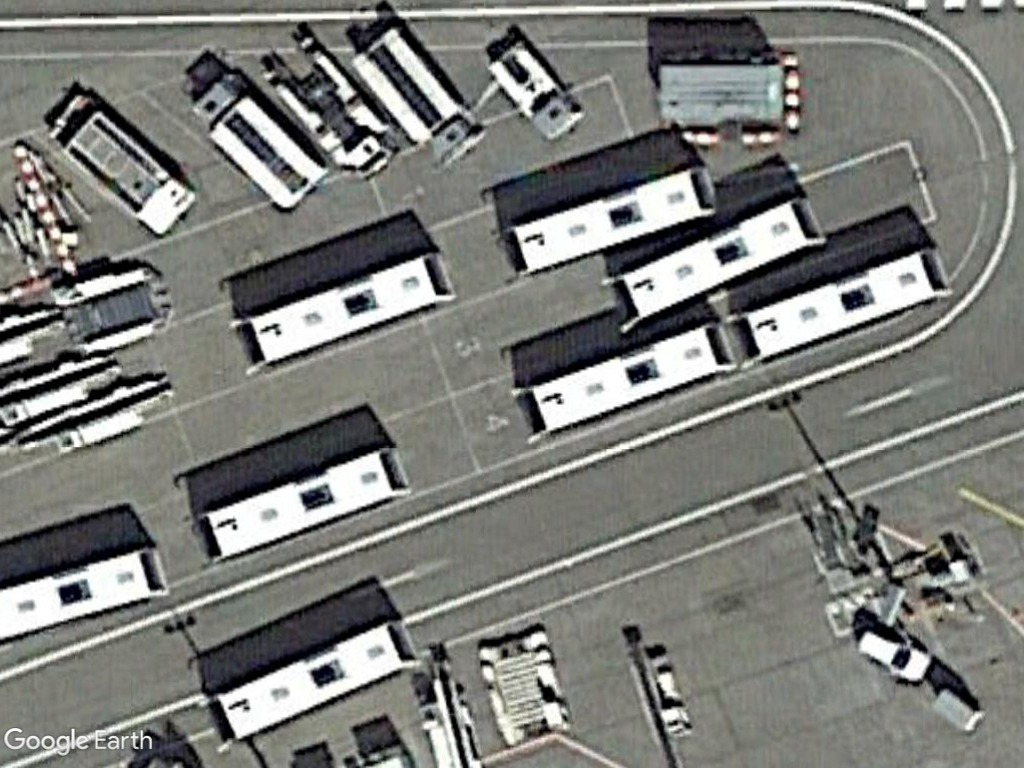bus: (605, 193, 823, 331), (729, 242, 953, 371), (509, 319, 732, 448), (232, 248, 453, 378), (206, 615, 420, 748), (195, 442, 411, 566), (504, 160, 716, 284)
other: (349, 24, 488, 169), (192, 85, 325, 209), (482, 45, 585, 142)
pushbacktruck: (260, 43, 398, 184)
van: (852, 626, 934, 688)
